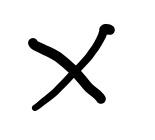mult: (25, 22, 114, 111)
